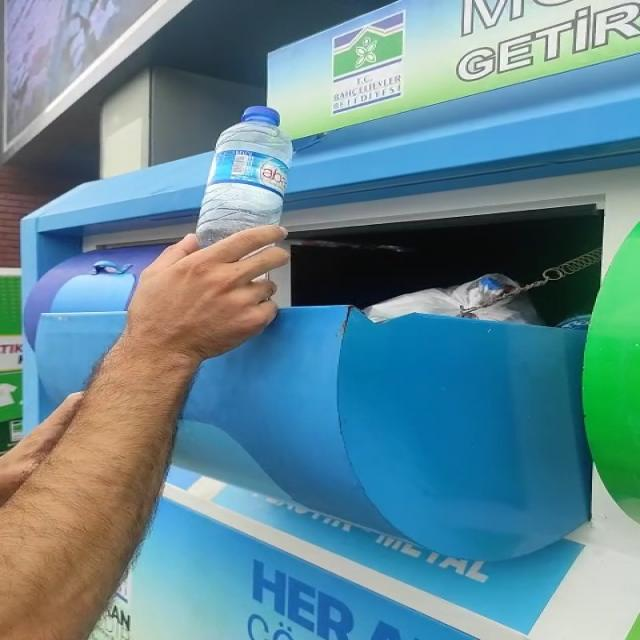plastic: (196, 106, 293, 246)
